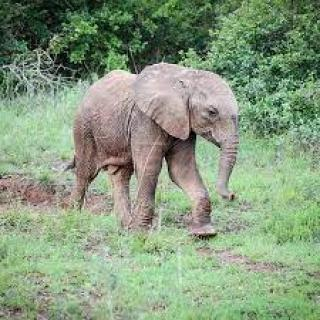Elephant: (67, 58, 269, 264)
